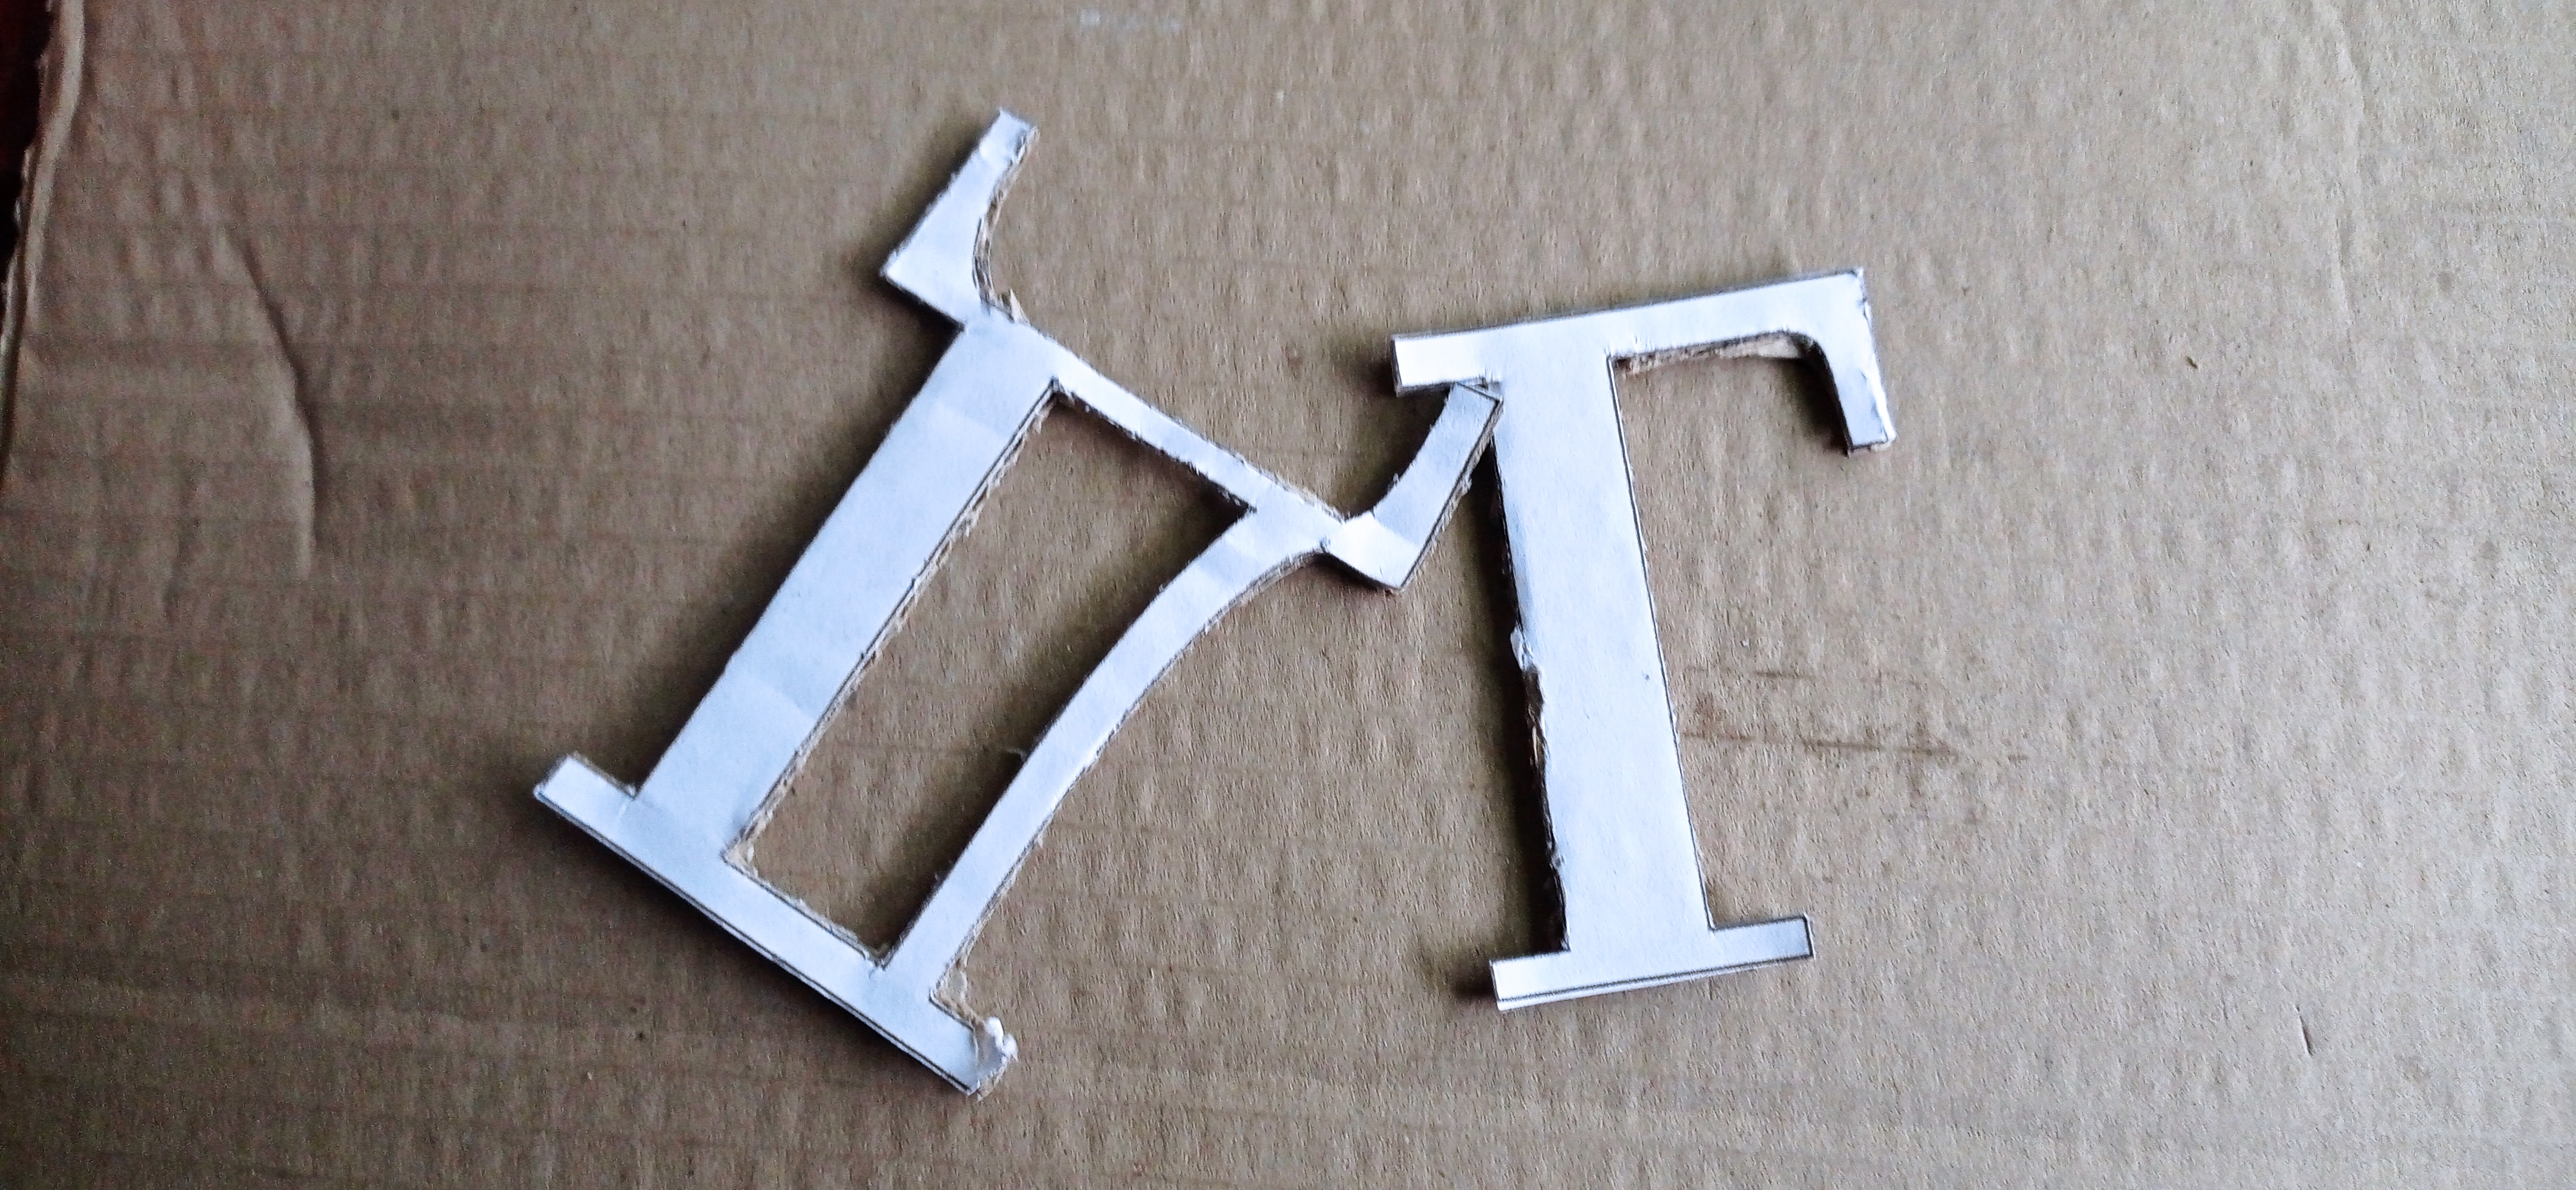d: (534, 104, 1495, 1093)
g: (1391, 263, 1899, 1017)
